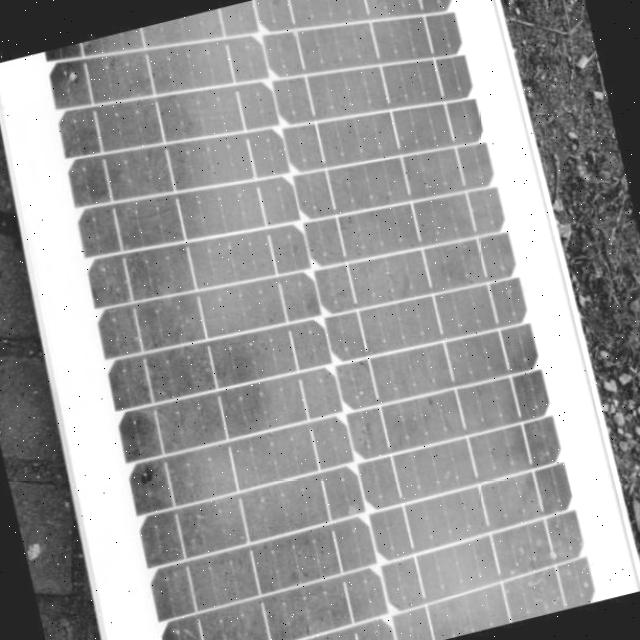Surface Contaminant: (27, 0, 481, 640)
